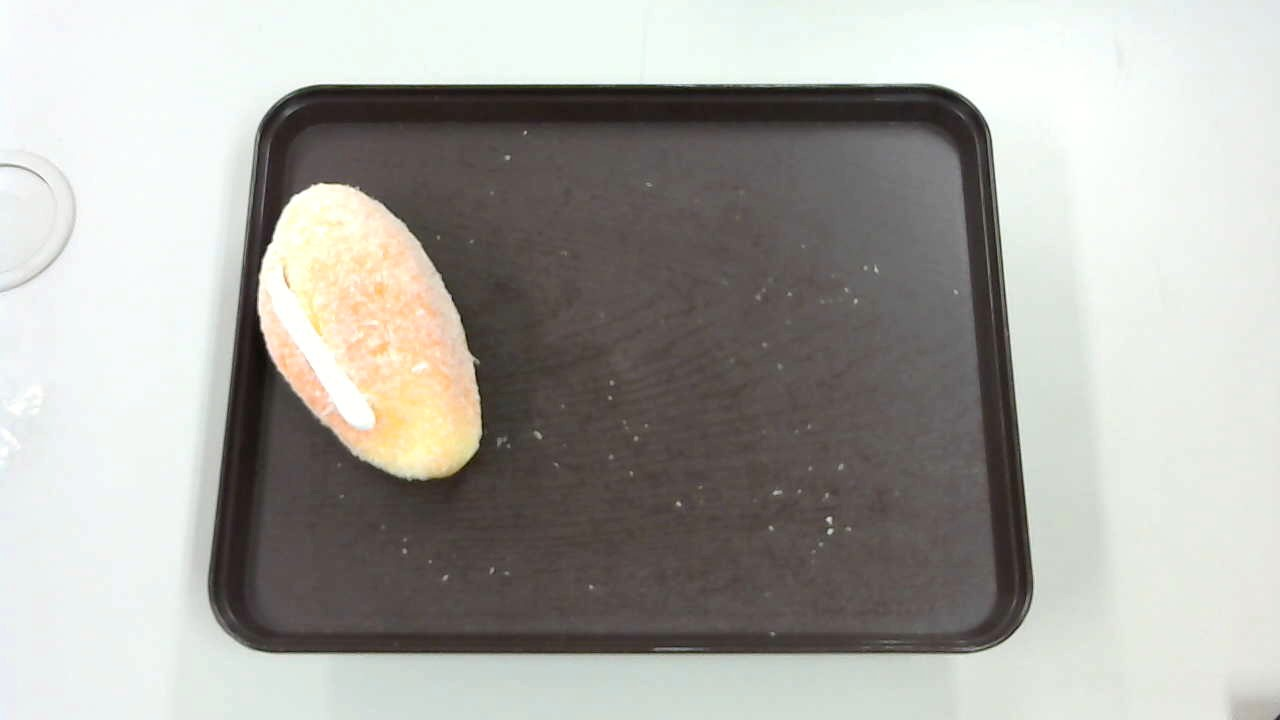coconut: (257, 182, 483, 483)
